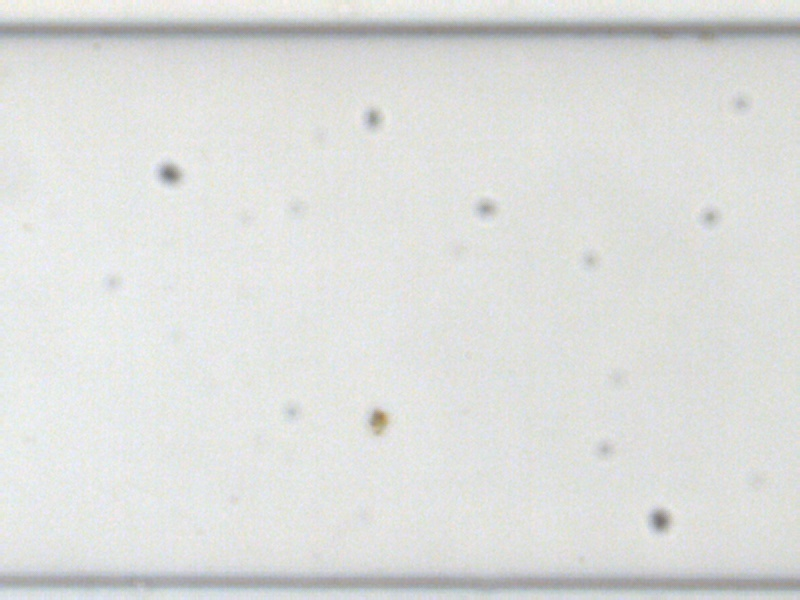Dunaliella salina: (367, 406, 387, 438)
